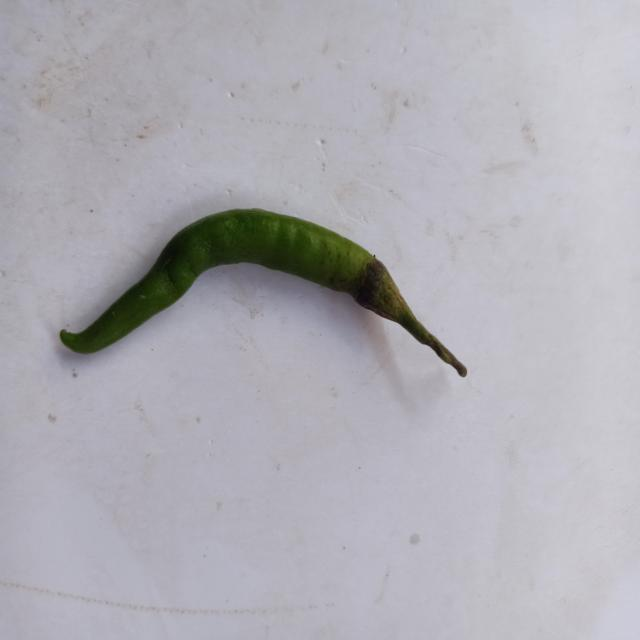Green Chilly: (59, 209, 467, 377)
